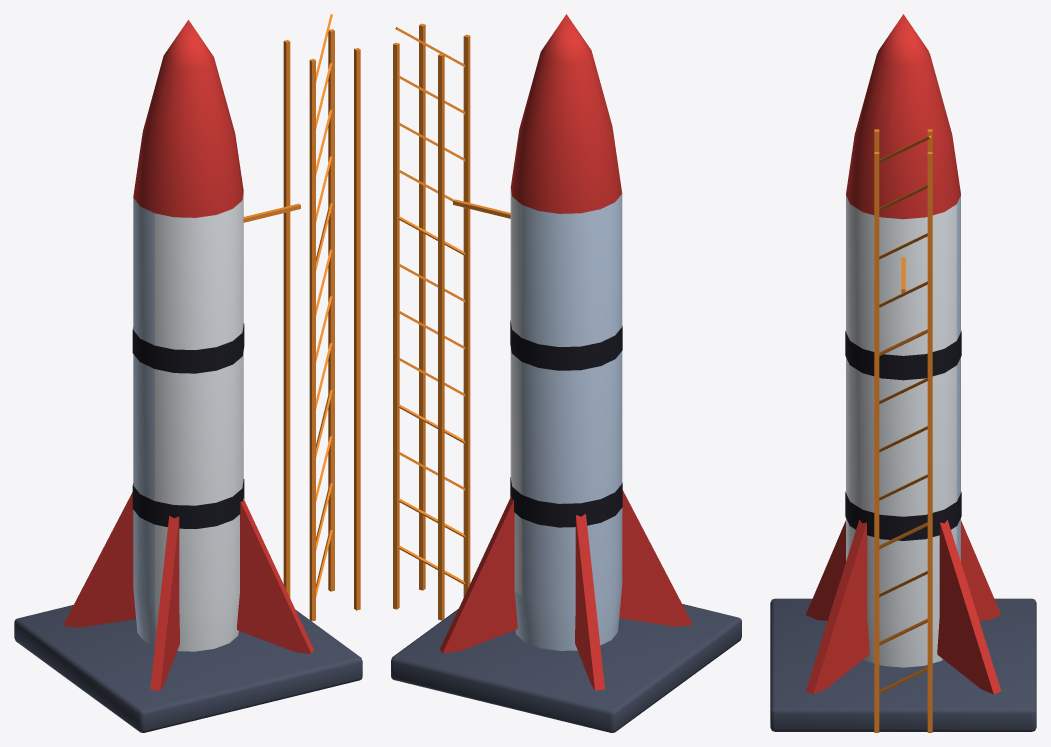
File: LaunchRocket.fbx
3 views of the same model, side by side, from view 1: azimuth 30°, elevation 25°; view 2: azimuth 150°, elevation 25°; view 3: azimuth 270°, elevation 25° (orthographic). The views are drawn at different scales.
Parts seen in each view (by area): view 1: LaunchRocket; view 2: LaunchRocket; view 3: LaunchRocket.
Part boxes in pixels (left/top/right/bottom): LaunchRocket: left=14, top=14, right=362, bottom=732; LaunchRocket: left=391, top=14, right=741, bottom=732; LaunchRocket: left=770, top=14, right=1036, bottom=732.
Bounding box in the file's own units: 7.26 × 16.5 × 6.
Materials: 1 (1 with a texture image).
